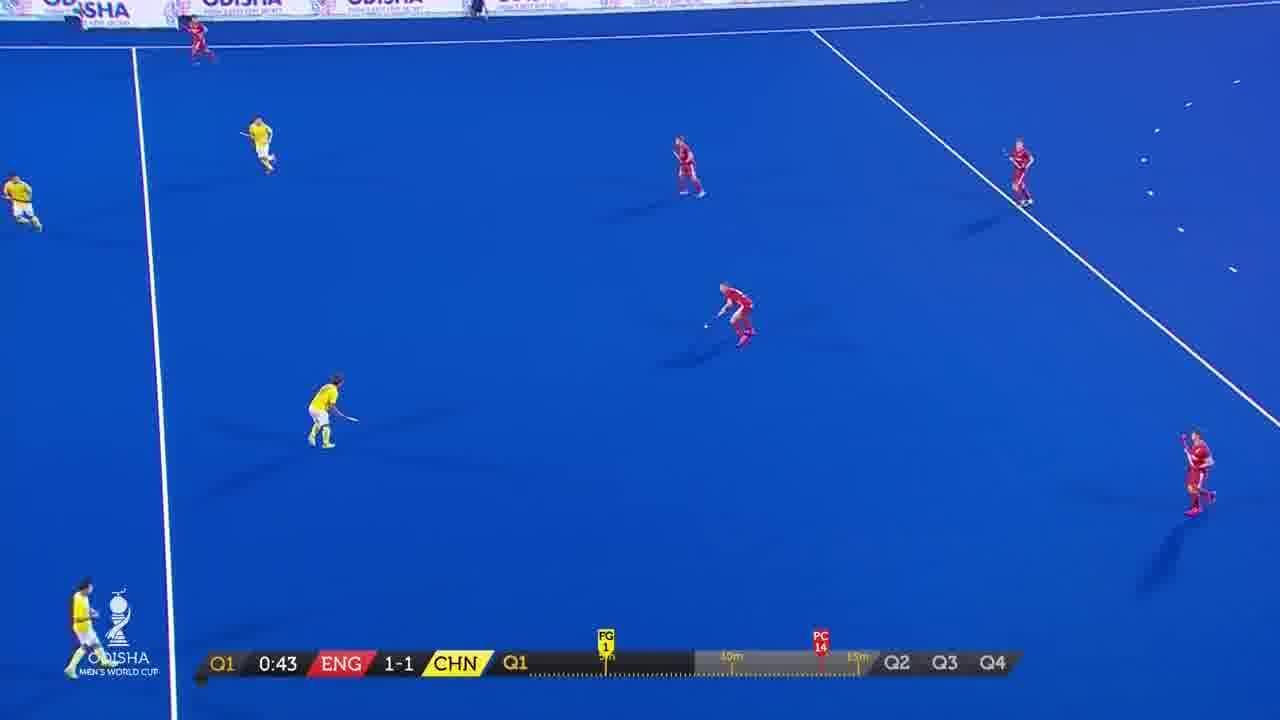ball: (700, 316, 714, 333)
